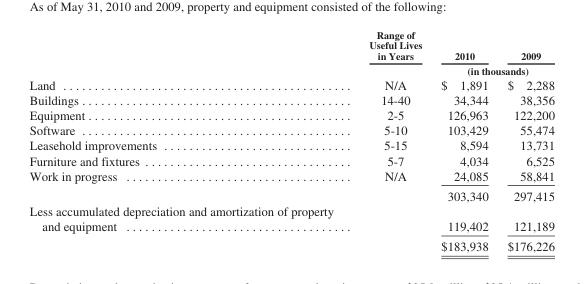table: (28, 28, 553, 253)
table column: (28, 28, 350, 253), (350, 28, 430, 253), (430, 28, 497, 253), (497, 28, 553, 253)
table column header: (28, 28, 553, 76)
table row: (28, 28, 553, 62), (28, 203, 553, 236), (28, 167, 553, 185), (28, 185, 553, 203), (28, 236, 553, 253), (28, 76, 553, 92), (28, 92, 553, 107), (28, 107, 553, 122), (28, 122, 553, 137), (28, 137, 553, 152), (28, 152, 553, 167), (28, 62, 553, 76)
table spanning cell: (350, 28, 430, 76), (430, 62, 553, 76)
